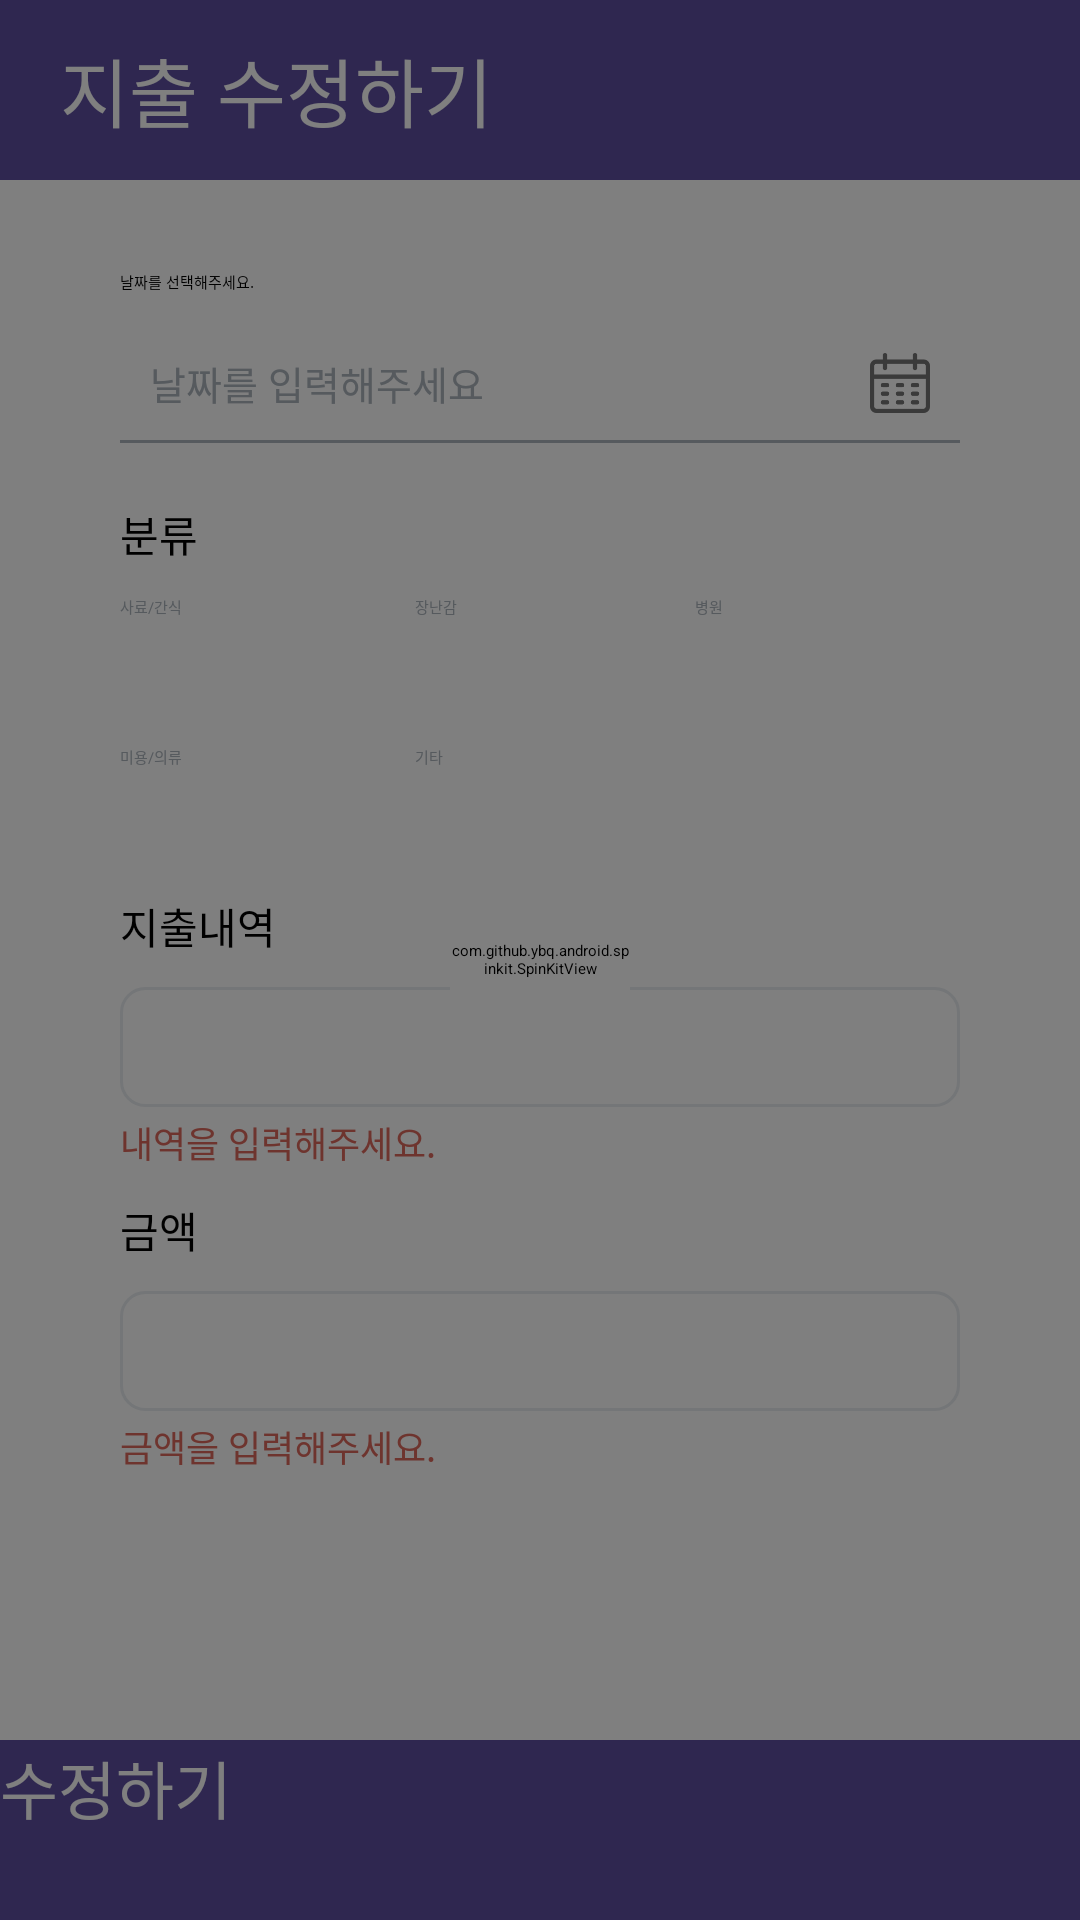

Screen size 1080w x 1920h. Icon name, then its box in pixels as (x1, y1, x2, y2):
calendar: (870, 353, 930, 413)
